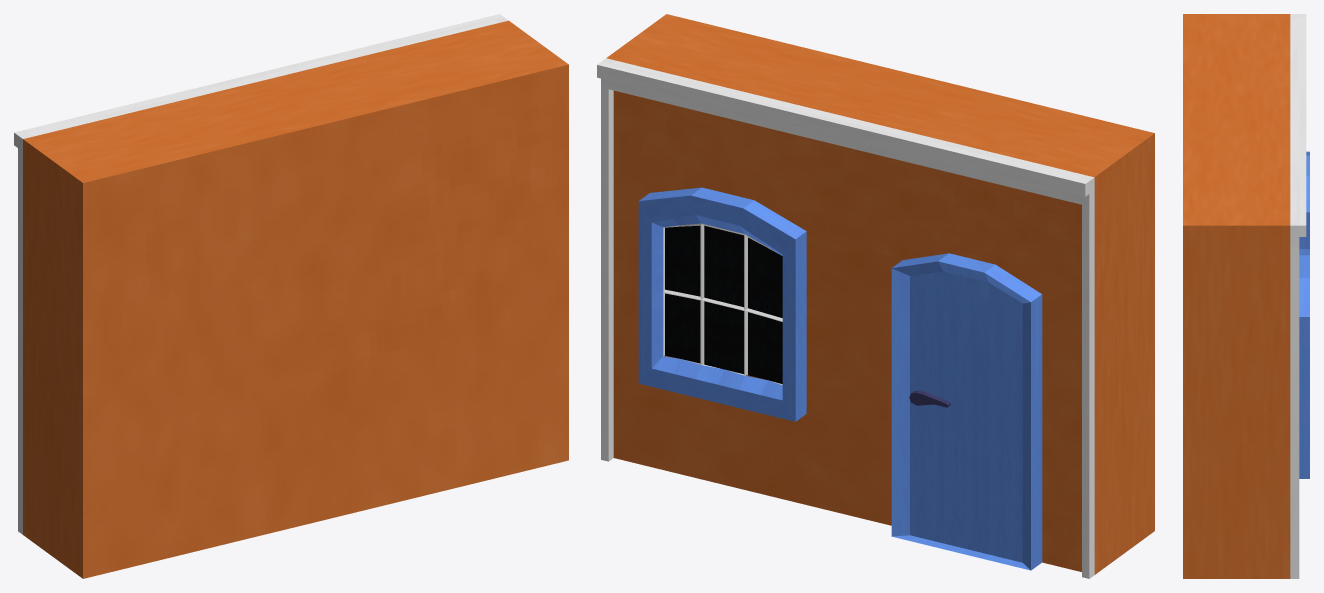
Rendered from casaflo2laranja.gltf.
The picture shows the model from 3 angles, left to right: view 1: azimuth 30°, elevation 25°; view 2: azimuth 150°, elevation 25°; view 3: azimuth 270°, elevation 25°; orthographic projection. The views are drawn at different scales.
Visible parts, largest first — view 1: cuboid; view 2: cuboid (×3); view 3: cuboid (×3).
Boxes of the visible parts, x1,y1,x2,y2 form: cuboid: (14,14,568,578); cuboid (×3): (597,14,1154,578); cuboid (×3): (1183,14,1309,578).
Bounding box in the file's own units: 1.75 × 1.36 × 0.4438.
Materials: 1 (1 with a texture image).
